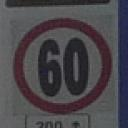speed_limit_60: (8, 18, 113, 112)
